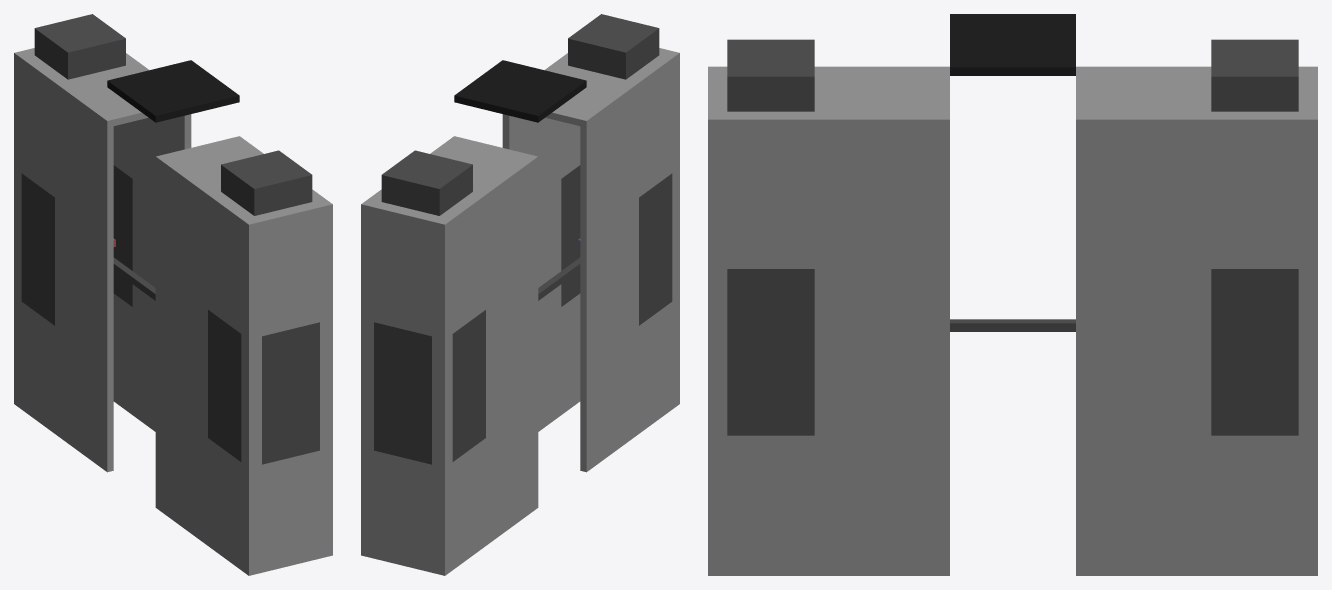
The model's file is minecraft.obj.
3 views of the same model, side by side, from view 1: azimuth 30°, elevation 25°; view 2: azimuth 150°, elevation 25°; view 3: azimuth 270°, elevation 25° (orthographic). The views are drawn at different scales.
Size of the model in its own units: 13 by 58 by 63.
